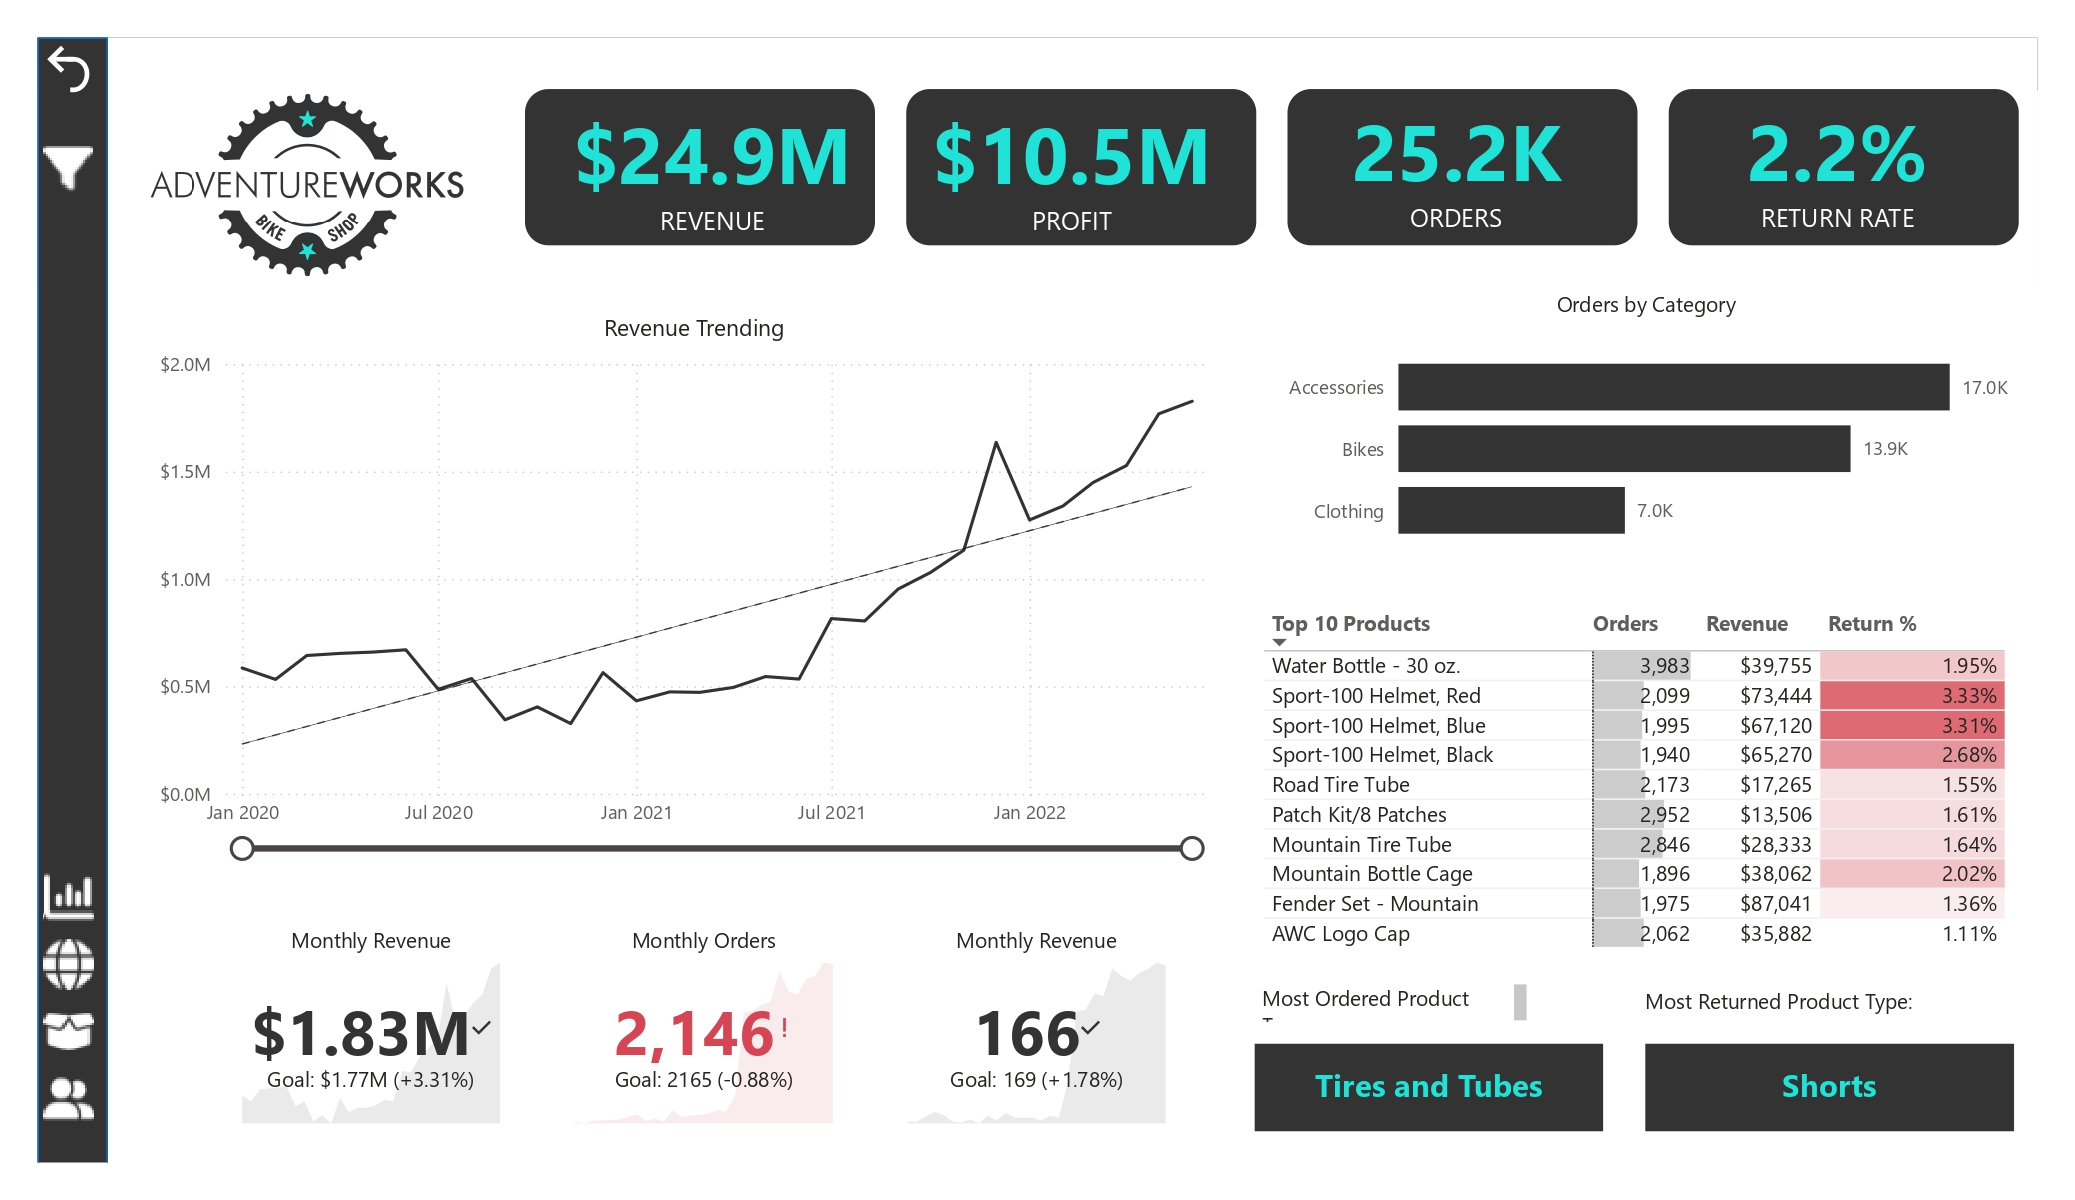

Layout of this report page (visuals, bound fields, positions):
{"tool":"powerbi","page":{"name":"Exec Dashboard","canvas":[1280,720],"ordinal":0},"visuals":[{"type":"card","fields":{"Values":["Measure Table.Total Revenue"]},"box":[304.3,1.9,256.1,161.8],"z":0,"group":"g2"},{"type":"image","title":"AW Logo","box":[44.5,14.3,256.1,160.7],"z":0},{"type":"shape","box":[311.8,33.4,224.3,100.2],"z":0,"group":"g1"},{"type":"actionButton","box":[0,530.3,77.9,39.8],"z":0,"group":"g3"},{"type":"card","fields":{"Values":["Measure Table.Total Profit"]},"box":[534.5,1.6,256.1,162.2],"z":1000,"group":"g2"},{"type":"group","id":"g1","title":"KPI Backgrounds","box":[311.8,33.4,956,100.2],"z":1000},{"type":"shape","box":[555.7,33.4,224.3,100.2],"z":1000,"group":"g1"},{"type":"actionButton","box":[0,573.2,77.9,39.8],"z":1000,"group":"g3"},{"type":"shape","title":"Left Nav Background","box":[0,0,45,720.5],"z":2000},{"type":"card","fields":{"Values":["Measure Table.Total Orders"]},"box":[780,0,256.1,162.2],"z":2000,"group":"g2"},{"type":"shape","box":[799.6,33.4,224.3,100.2],"z":2000,"group":"g1"},{"type":"actionButton","box":[0,616.2,77.9,39.8],"z":2000,"group":"g3"},{"type":"group","id":"g2","title":"KPI Values","box":[304.3,0,975.7,163.8],"z":3000},{"type":"card","fields":{"Values":["Measure Table.Return Rate"]},"box":[1023.9,0,256.1,162.2],"z":3000,"group":"g2"},{"type":"shape","box":[1043.5,33.4,224.3,100.2],"z":3000,"group":"g1"},{"type":"actionButton","box":[0,659.1,77.9,39.8],"z":3000,"group":"g3"},{"type":"lineChart","title":"Revenue Trending","fields":{"Y":["Measure Table.Total Revenue"],"Category":["Calendar Lookup.Year","Calendar Lookup.Start of Quarter","Calendar Lookup.Date Hierarchy.Start of Month"]},"box":[73.2,175,695.1,354.7],"z":4000},{"type":"kpi","title":"Monthly Revenue","fields":{"Indicator":["Measure Table.Total Revenue"],"TrendLine":["Calendar Lookup.Start of Month"],"Goal":["Measure Table.Previous Month Revenue"]},"box":[125.7,569.4,175,130.4],"z":5000},{"type":"kpi","title":"Monthly Revenue","fields":{"TrendLine":["Calendar Lookup.Start of Month"],"Indicator":["Measure Table.Total Returns"],"Goal":["Measure Table.Previous Month Returns"]},"box":[551.9,569.4,175,130.4],"z":6000},{"type":"kpi","title":"Monthly Orders","fields":{"TrendLine":["Calendar Lookup.Start of Month"],"Indicator":["Measure Table.Total Orders"],"Goal":["Measure Table.Previous Month Orders"]},"box":[338.8,569.4,175,130.4],"z":7000},{"type":"barChart","title":"Orders by Category","fields":{"Category":["Product Categories Lookup.CategoryName"],"Y":["Measure Table.Total Orders"]},"box":[790.5,162.2,477.2,178.1],"z":8000},{"type":"tableEx","fields":{"Values":["Product Lookup.ProductName","Measure Table.Total Orders","Measure Table.Total Revenue","Measure Table.Return Rate"]},"box":[779.4,361.1,488.3,240.2],"z":9000},{"type":"card","fields":{"Values":["Min(Product Subcategories Lookup.SubcategoryName)"]},"box":[779.4,644.2,222.7,55.7],"z":10000},{"type":"textbox","box":[779.4,601.3,178.1,33.4],"z":11000},{"type":"textbox","box":[1024.4,602.8,202,33.4],"z":12000},{"type":"card","fields":{"Values":["Min(Product Subcategories Lookup.SubcategoryName)"]},"box":[1029.1,644.2,235.4,55.7],"z":13000},{"type":"actionButton","box":[0,0,100,40],"z":14000},{"type":"group","id":"g3","title":"Navigation Buttons","box":[0,530.3,79.2,168.6],"z":15000},{"type":"actionButton","box":[0,63.6,73.2,39.8],"z":16000}]}

Visuals, with their boxes on the page's 1280x720 design canvas (x1, y1, x2, y2). These are canvas units, not pixel positions in the 2075x1200 screenshot, which may show the page scaled, cropped or inside an application window:
card - Measure Table.Total Revenue: 304,2,560,164
"AW Logo" image: 44,14,301,175
shape: 312,33,536,134
actionButton: 0,530,78,570
card - Measure Table.Total Profit: 534,2,791,164
"KPI Backgrounds" group: 312,33,1268,134
shape: 556,33,780,134
actionButton: 0,573,78,613
"Left Nav Background" shape: 0,0,45,720
card - Measure Table.Total Orders: 780,0,1036,162
shape: 800,33,1024,134
actionButton: 0,616,78,656
"KPI Values" group: 304,0,1280,164
card - Measure Table.Return Rate: 1024,0,1280,162
shape: 1044,33,1268,134
actionButton: 0,659,78,699
"Revenue Trending" lineChart: 73,175,768,530
"Monthly Revenue" kpi: 126,569,301,700
"Monthly Revenue" kpi: 552,569,727,700
"Monthly Orders" kpi: 339,569,514,700
"Orders by Category" barChart: 790,162,1268,340
tableEx - Product Lookup.ProductName x Measure Table.Total Orders: 779,361,1268,601
card - Min(Product Subcategories Lookup.SubcategoryName): 779,644,1002,700
textbox: 779,601,958,635
textbox: 1024,603,1226,636
card - Min(Product Subcategories Lookup.SubcategoryName): 1029,644,1264,700
actionButton: 0,0,100,40
"Navigation Buttons" group: 0,530,79,699
actionButton: 0,64,73,103
